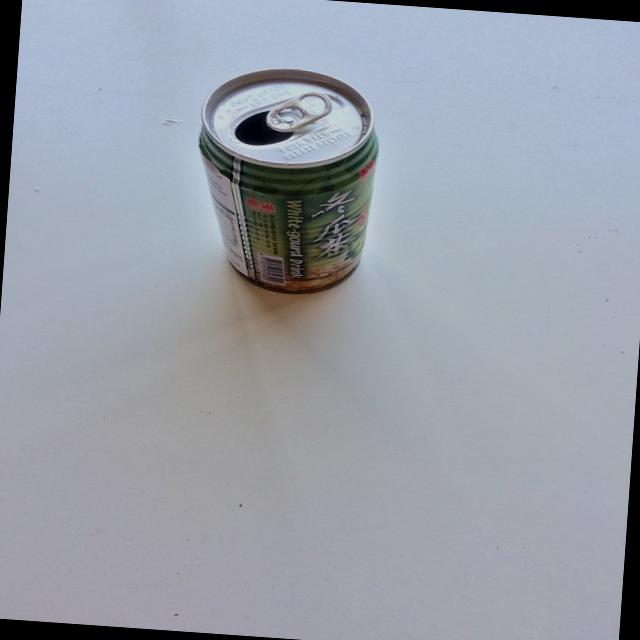Recycle: (184, 59, 385, 304)
